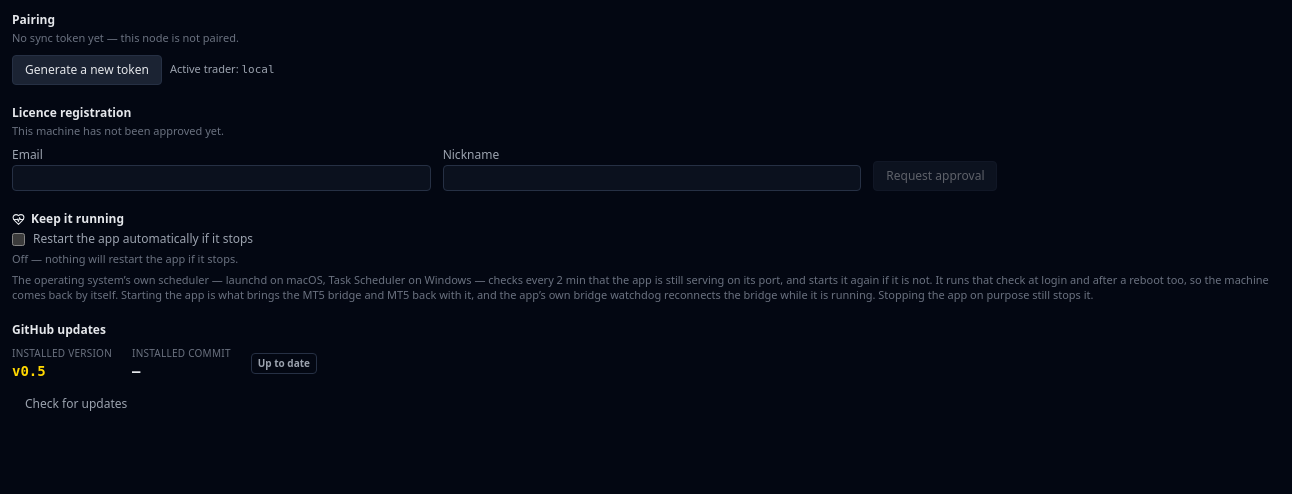
it: the sync token › still shows a token once one is generated
Click the button "Generate a new token": click(87, 70) x1=12 y1=54 x2=162 y2=84
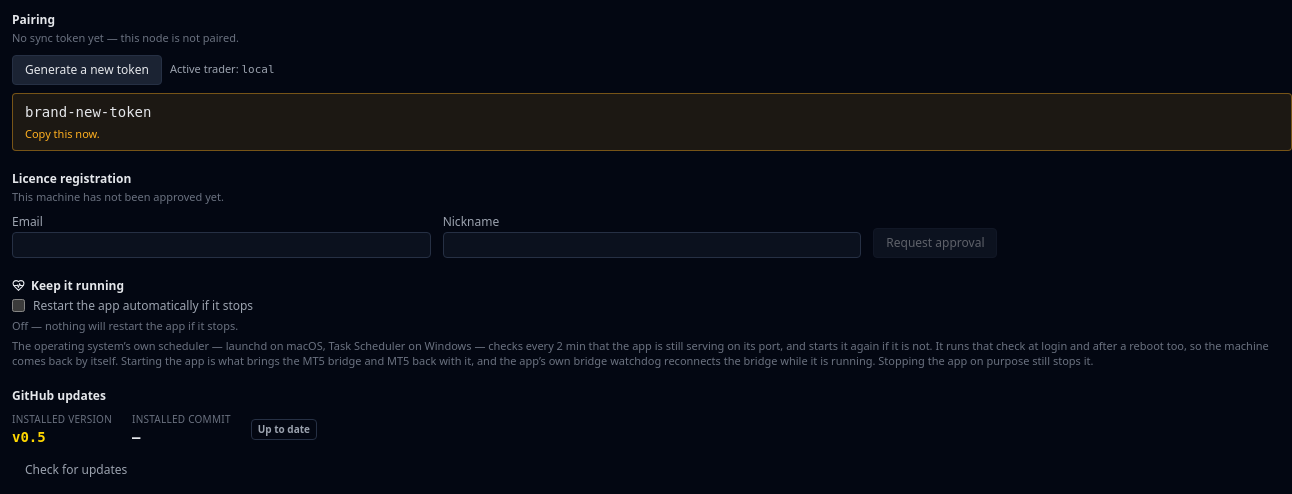
Expected: the element with test id "new-sync-token" shows "brand-new-token", x1=25 y1=104 x2=151 y2=120
